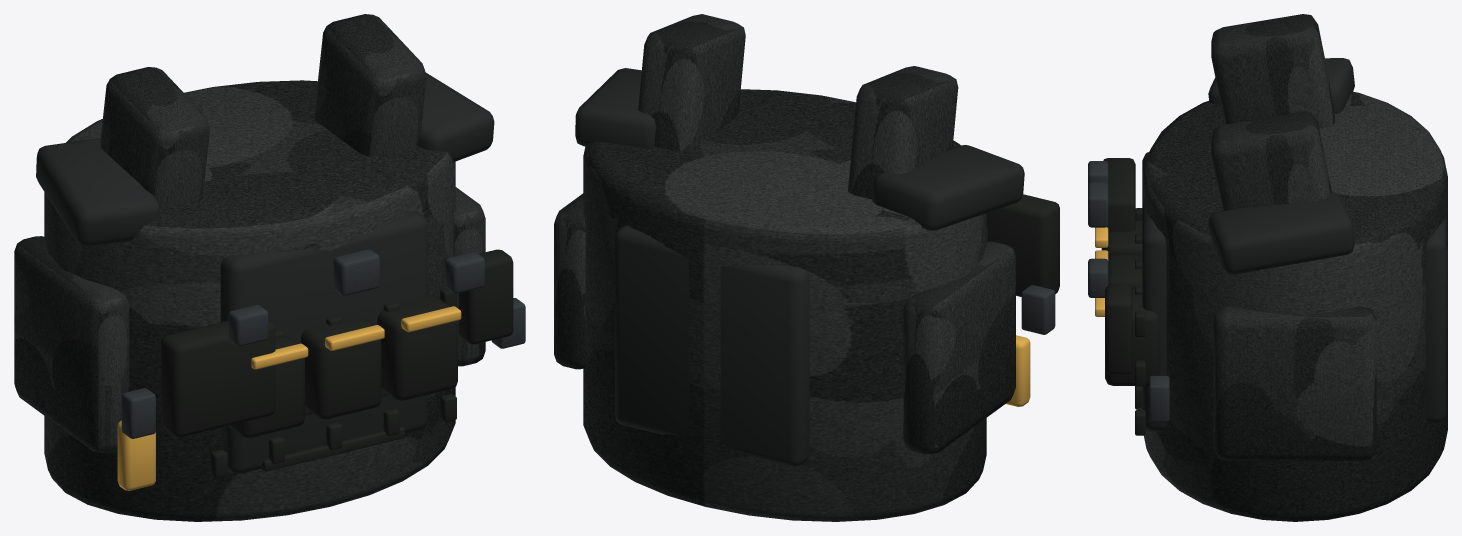
File: gear_armor_slick.glb
The picture shows the model from 3 angles, left to right: view 1: azimuth 30°, elevation 25°; view 2: azimuth 150°, elevation 25°; view 3: azimuth 270°, elevation 25°; orthographic projection. The views are drawn at different scales.
Parts seen in each view (by area): view 1: Gear; view 2: Gear; view 3: Gear.
Boxes of the visible parts, x1=… form: Gear: x1=14, y1=14, x2=525, y2=521; Gear: x1=554, y1=14, x2=1059, y2=521; Gear: x1=1088, y1=14, x2=1447, y2=521.
Bounding box in the file's own units: 0.6518 × 0.6039 × 0.5297.
5 materials, 2 textured.
